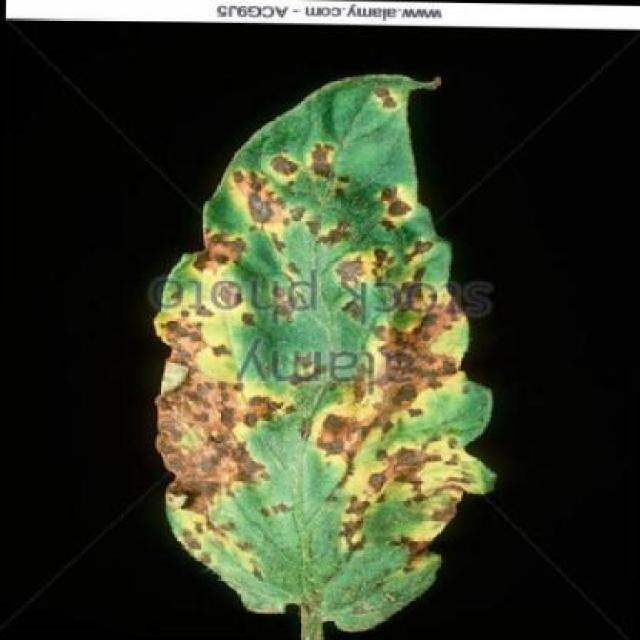Septoria leaf spot: (123, 63, 519, 634)
